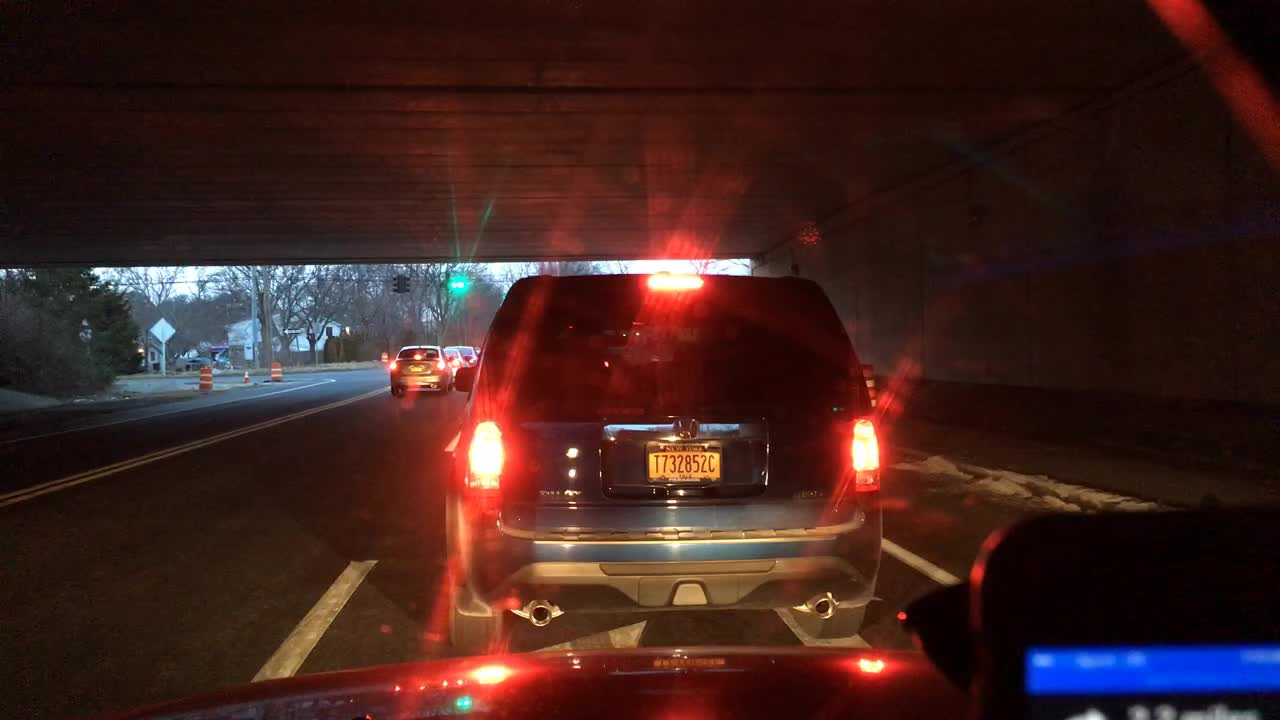car: (446, 272, 882, 652), (390, 343, 451, 397), (438, 348, 468, 382), (446, 346, 479, 364), (184, 358, 210, 370)
traffic light: (439, 279, 467, 290), (396, 275, 406, 293), (406, 277, 412, 292), (391, 276, 395, 295)
traffic sign: (148, 317, 173, 342), (282, 326, 301, 334)
